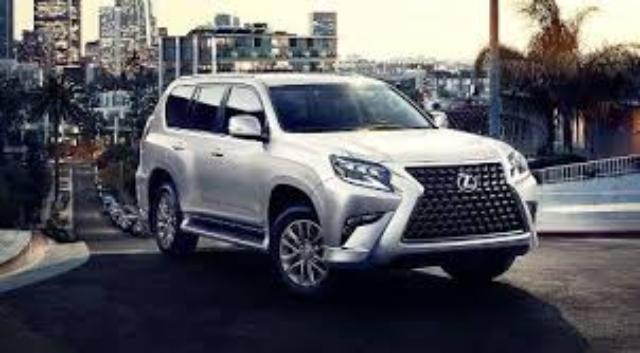lexus: (135, 72, 539, 292)
